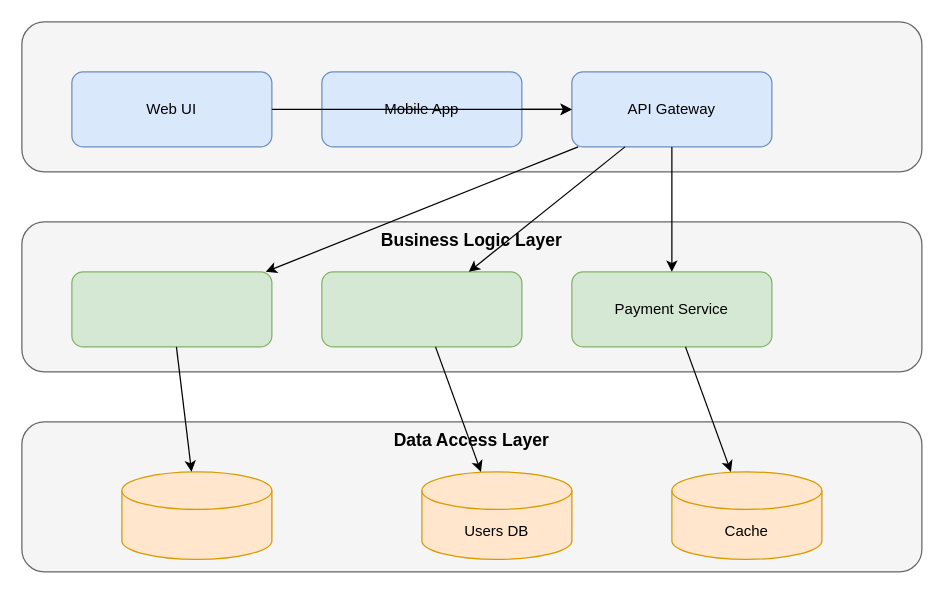
Image size: 944x594. Some labels were removed from this diagram. Here are the shapes that lost their labels. From the top down, the box of each, then its label:
(21, 21, 922, 172): Presentation Layer
(71, 271, 272, 347): Order Service
(321, 271, 522, 347): User Service
(121, 471, 272, 559): Orders DB
